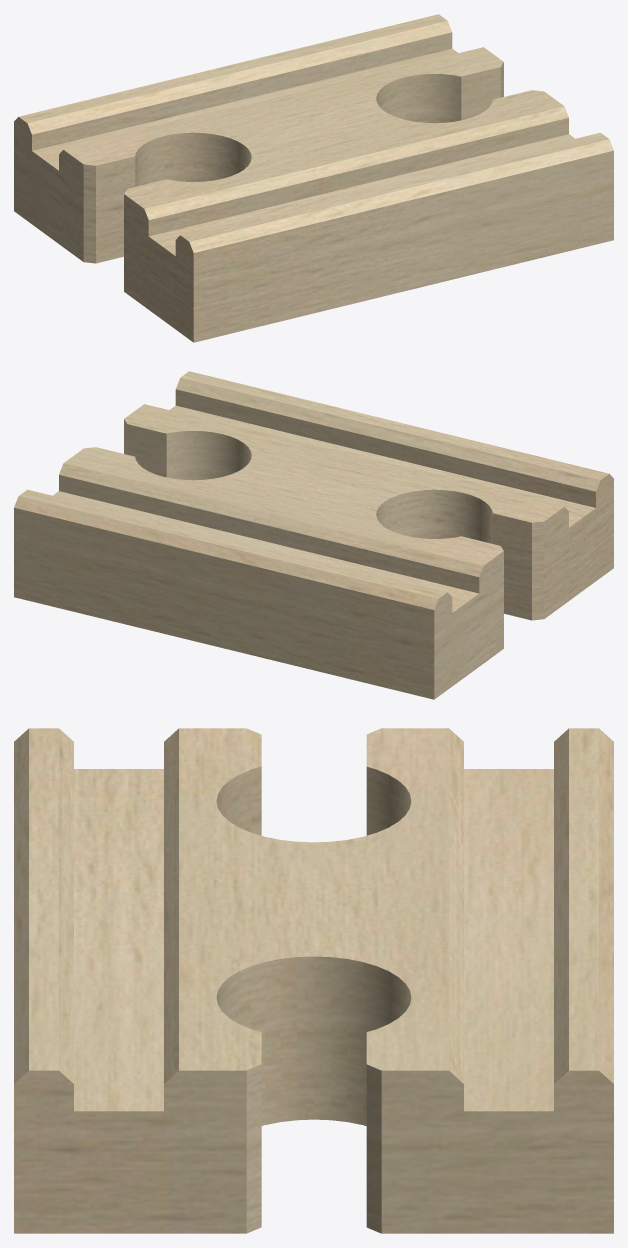
3 renders of one model, top to bottom at view 1: azimuth 30°, elevation 25°; view 2: azimuth 150°, elevation 25°; view 3: azimuth 270°, elevation 25°, orthographic. The views are drawn at different scales.
Parts seen in each view (by area): view 1: SketchUp; view 2: SketchUp; view 3: SketchUp.
Part boxes in pixels (x1,y1,x2,y2): SketchUp: (14,14,613,342); SketchUp: (14,371,613,699); SketchUp: (14,728,613,1233).
Bounding box in the file's own units: 2.13 × 1.57 × 0.4724.
